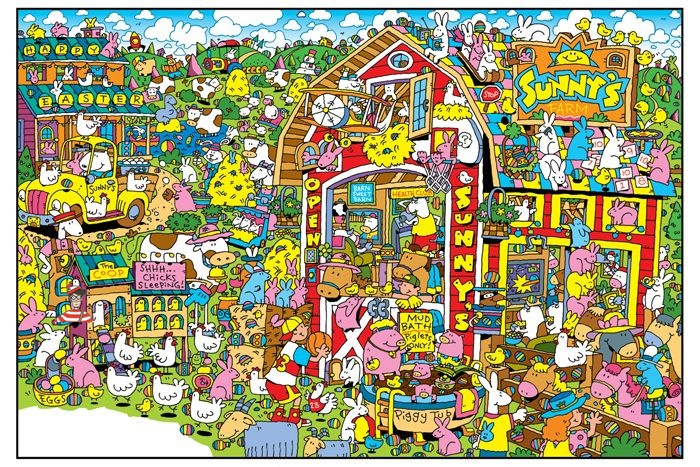waldo: (55, 283, 94, 322)
